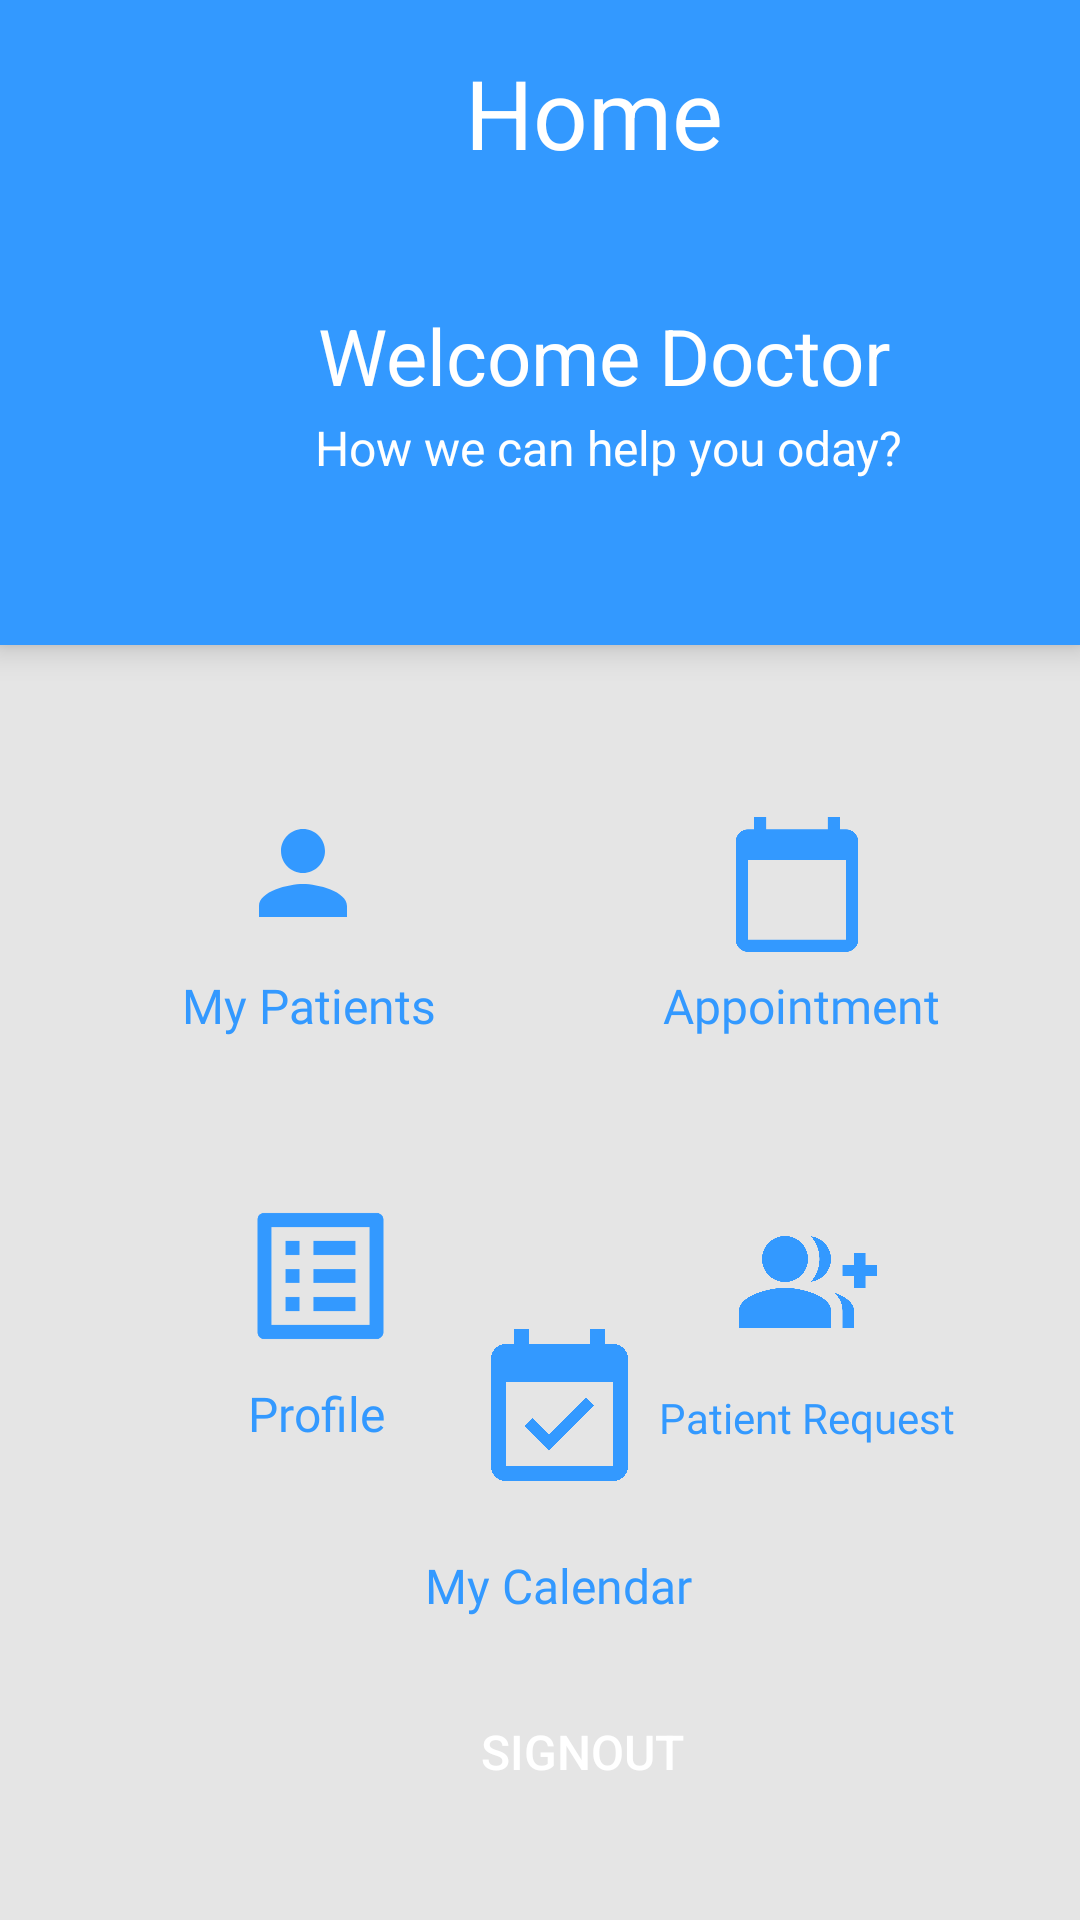

Screen size 1080w x 1920h. Icon name, then its box in pixels as [left=x1, top=y1, right=x2, bottom=y2]:
person: [left=259, top=829, right=347, bottom=917]
